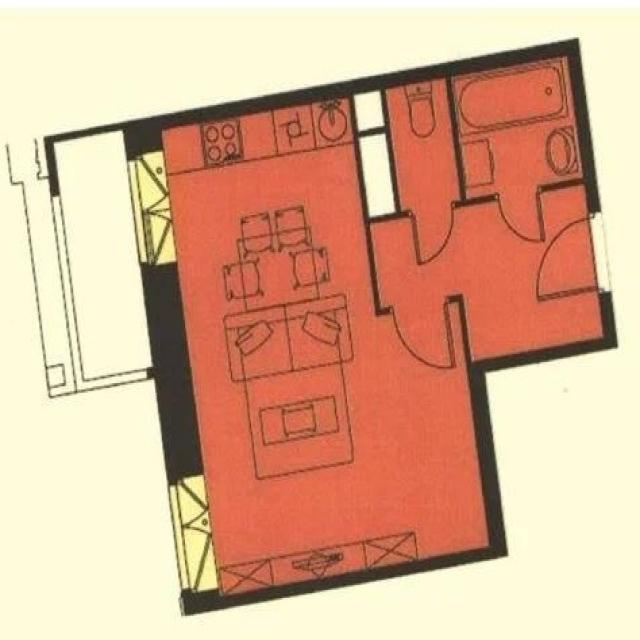Bathrooms: (454, 57, 582, 198), (387, 80, 460, 212)
Corridors: (371, 185, 604, 359), (56, 131, 152, 379)
Doors: (535, 212, 613, 306), (168, 475, 219, 594), (389, 295, 459, 372), (406, 200, 456, 268), (125, 150, 171, 215), (496, 187, 548, 244), (134, 209, 177, 268)
LBwalls: (179, 291, 619, 619), (122, 37, 602, 214), (140, 260, 205, 487)
Offices: (162, 99, 490, 593)
Walls: (43, 121, 154, 392), (349, 90, 412, 318), (446, 78, 500, 210), (448, 294, 472, 364), (539, 176, 584, 194)
